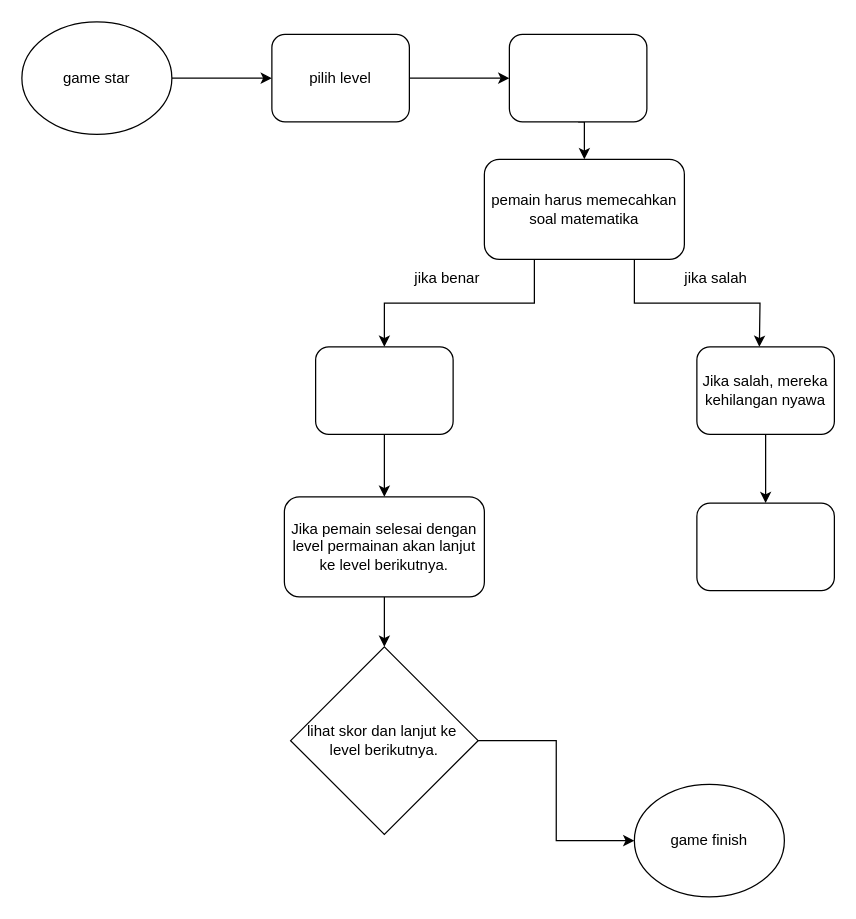
The diagram is 856 pixels wide and 919 high, and some of its shapes have lost their labels. The centre of each missing label's shape, as x and y in pixels:
"game over" belongs at [765,546].
"pemain akan mendapatkan poin dan melanjutkan berlari." belongs at [383,390].
"permainan dimulai" belongs at [577,77].
